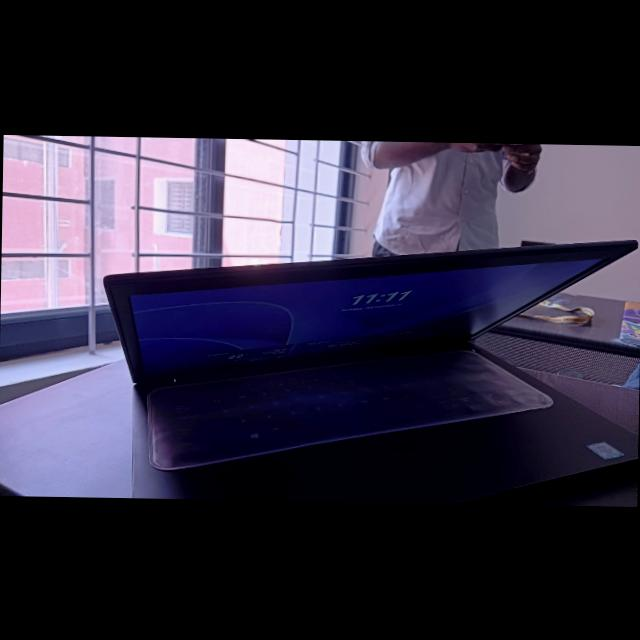laptop: (76, 223, 640, 506)
